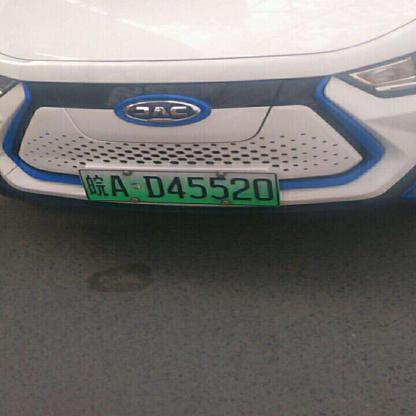lp: (82, 168, 280, 206)
